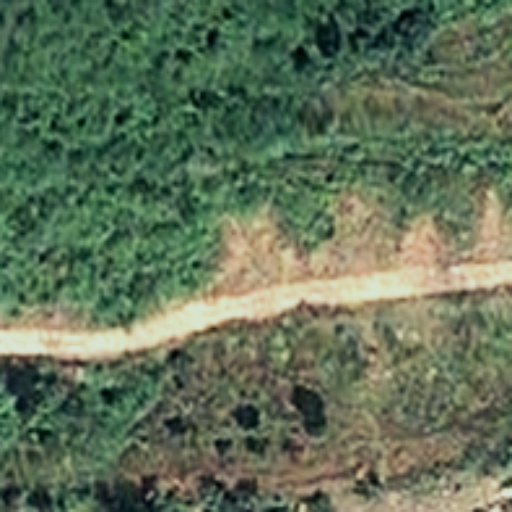landslide: (213, 193, 448, 293)
